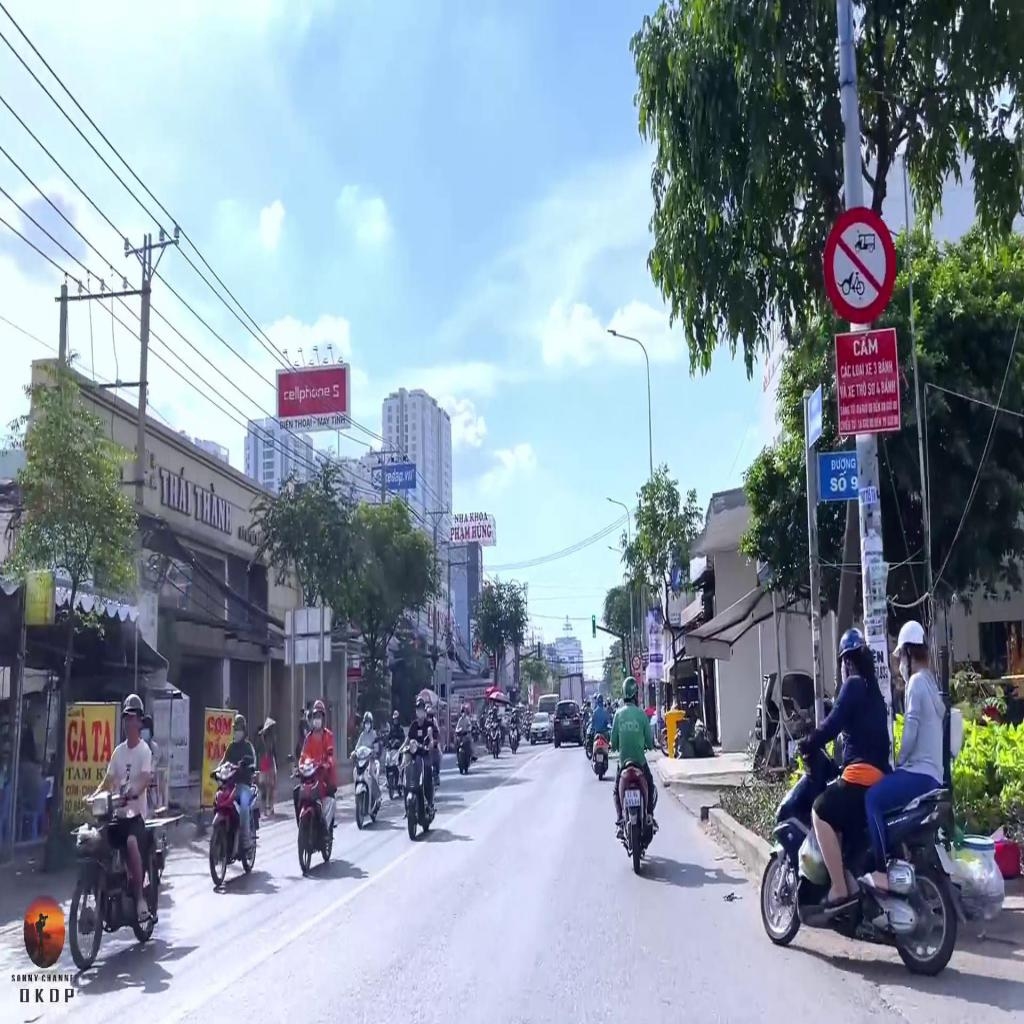cam_cac_loai_xe_3_banh: (823, 201, 899, 327)
